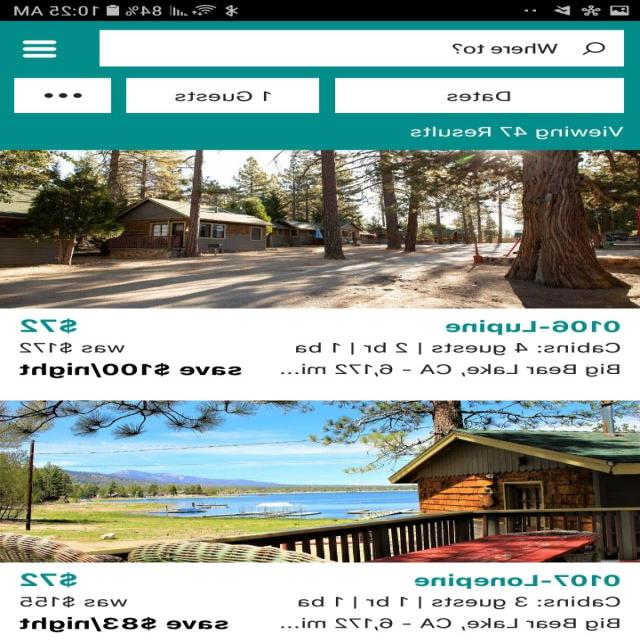EditText: (100, 30, 624, 67)
Icon: (23, 39, 59, 58), (582, 42, 606, 55)
Image: (1, 400, 640, 562), (1, 149, 640, 308)
Text: (280, 342, 620, 377), (280, 596, 620, 630), (21, 362, 242, 378), (20, 616, 228, 632), (415, 574, 620, 588), (446, 319, 620, 335), (412, 126, 624, 139), (20, 595, 128, 607), (20, 342, 126, 354), (452, 43, 558, 54), (22, 317, 78, 334), (22, 572, 78, 587)
TextButton: (335, 78, 624, 113), (127, 78, 320, 113), (15, 78, 112, 113)
